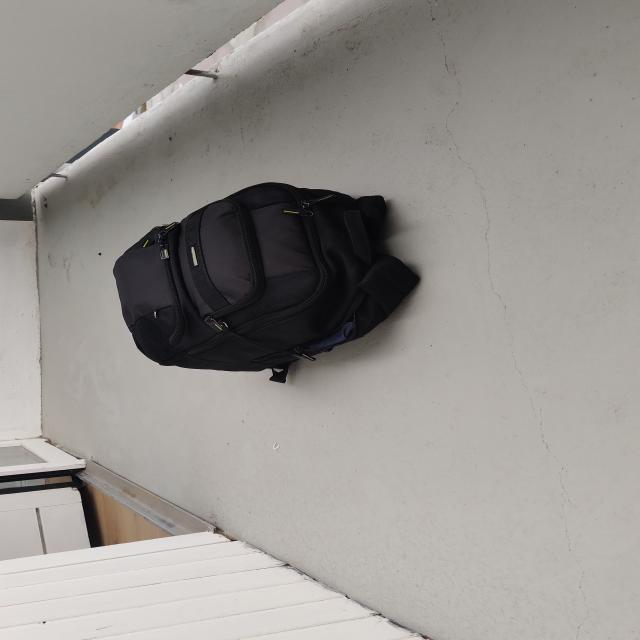backpack: (101, 173, 428, 381)
